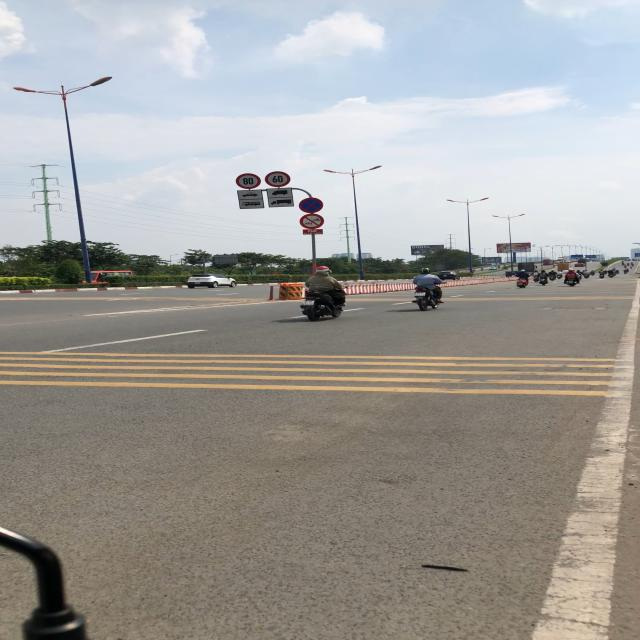Bien bao cam dung xe va do xe: (298, 196, 325, 213)
Bien bao toc do toi da cho phep: (262, 171, 294, 188), (232, 172, 262, 190)
